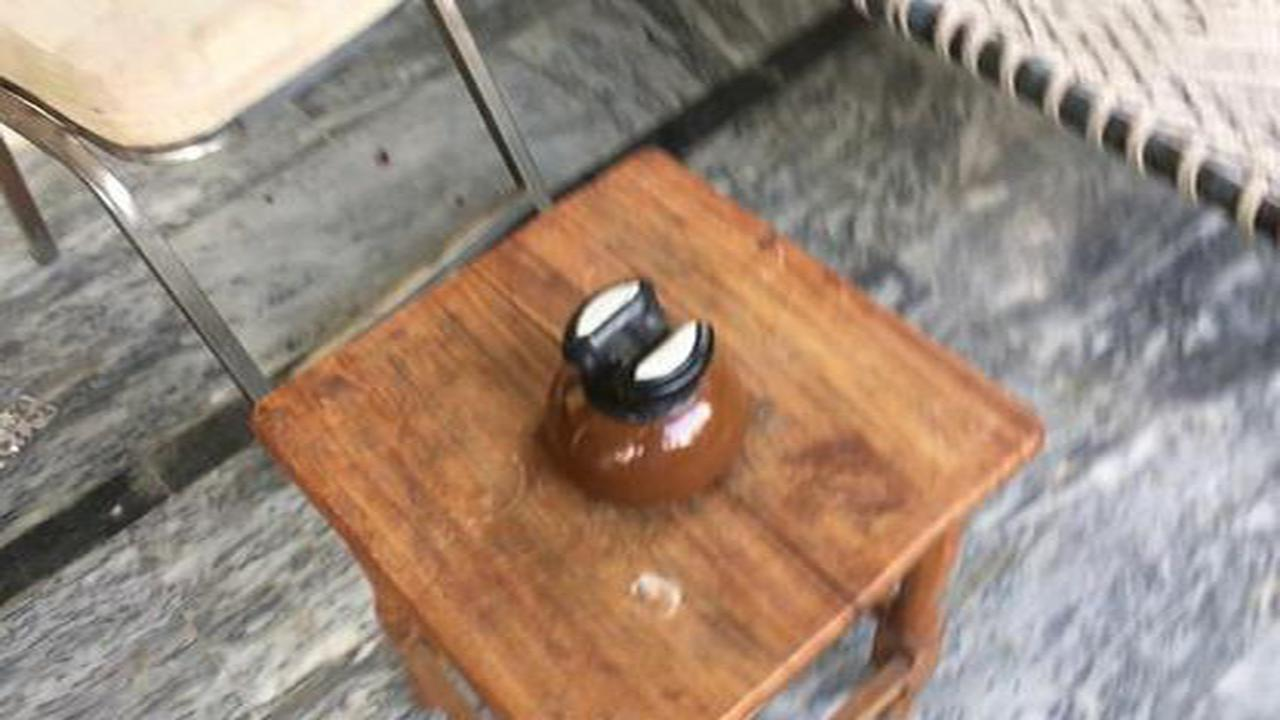insulator_pin: (499, 264, 776, 527)
